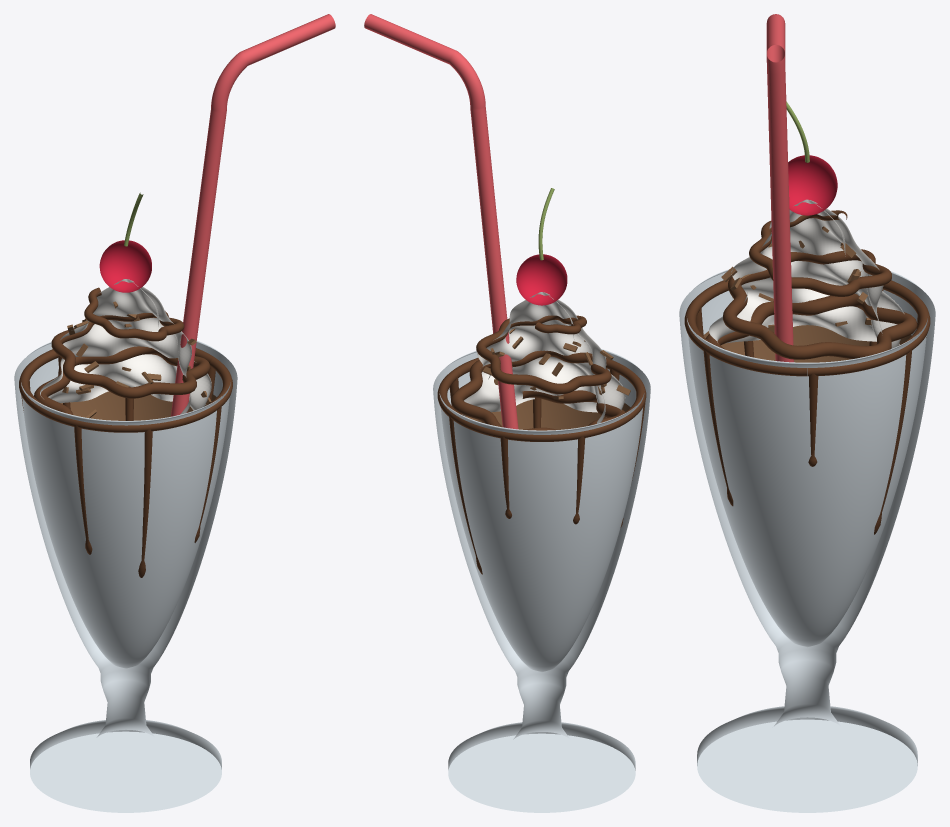
The model's file is malteada_chocolate.glb.
3 renders of one model, left to right at view 1: azimuth 30°, elevation 25°; view 2: azimuth 150°, elevation 25°; view 3: azimuth 270°, elevation 25°, orthographic. The views are drawn at different scales.
Visible parts, largest first — view 1: Malteada de chocolate; view 2: Malteada de chocolate; view 3: Malteada de chocolate.
Boxes of the visible parts, left/top/right/bottom form: Malteada de chocolate: left=14, top=14, right=335, bottom=812; Malteada de chocolate: left=364, top=14, right=650, bottom=812; Malteada de chocolate: left=679, top=14, right=935, bottom=812.
Size of the model in its own units: 0.1462 by 0.3479 by 0.0976.
